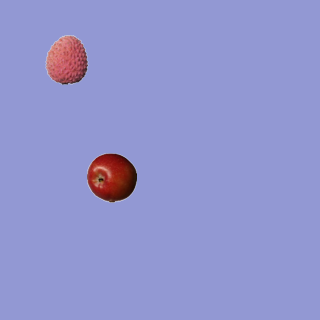Apple Braeburn: (86, 152, 136, 202)
Lychee: (41, 34, 91, 84)
